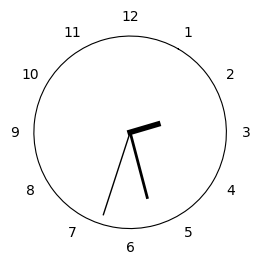12: (122, 9, 139, 23)
circle: (34, 36, 228, 229)
hours: (127, 121, 161, 134)
minutes: (130, 135, 148, 200)
seconds: (102, 135, 129, 217)
